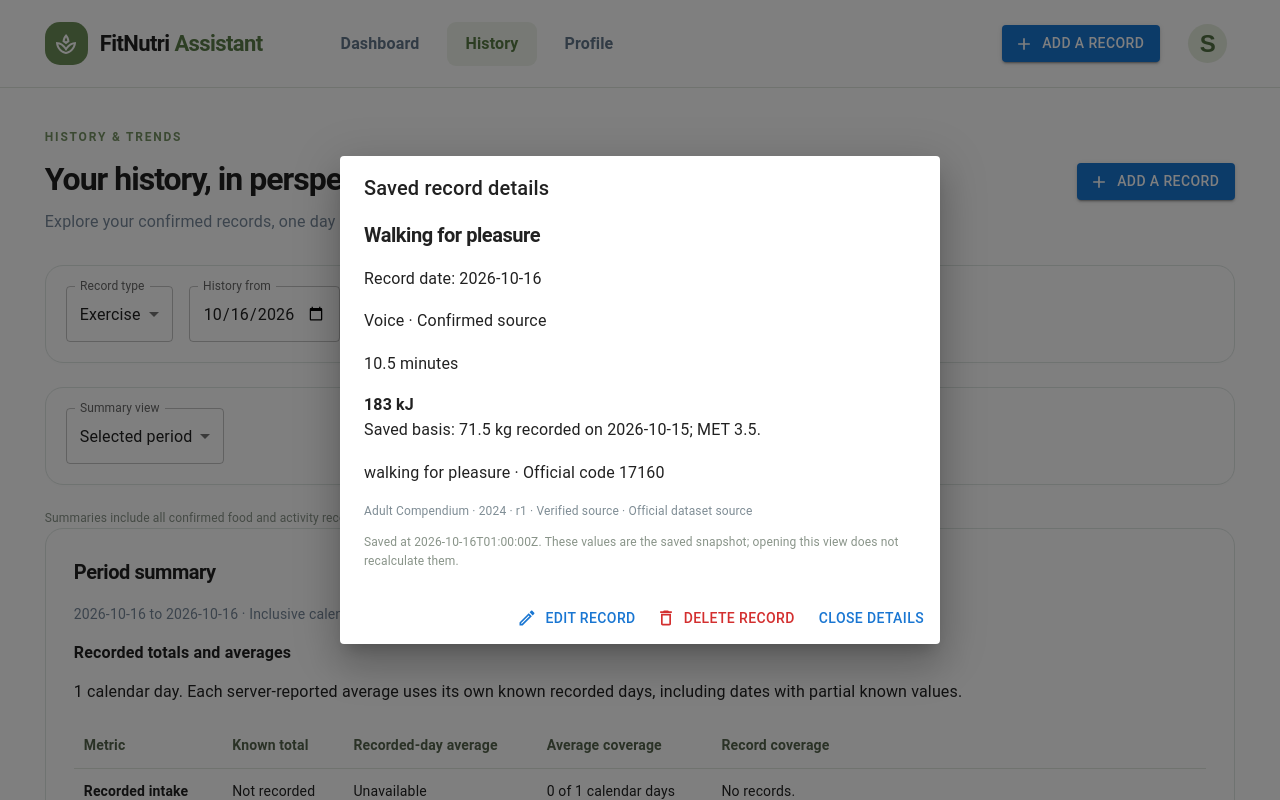
Scenario: F13 History → edit → correction Review › updates a VOICE activity through owned previews and PUT even when the selected past date has no weight
Expected: the dialog "Saved record details" is shown, x1=340 y1=156 x2=940 y2=644
Click the button "Edit record". click: coordinates (579, 618)
box: x1=514 y1=600 x2=644 y2=636
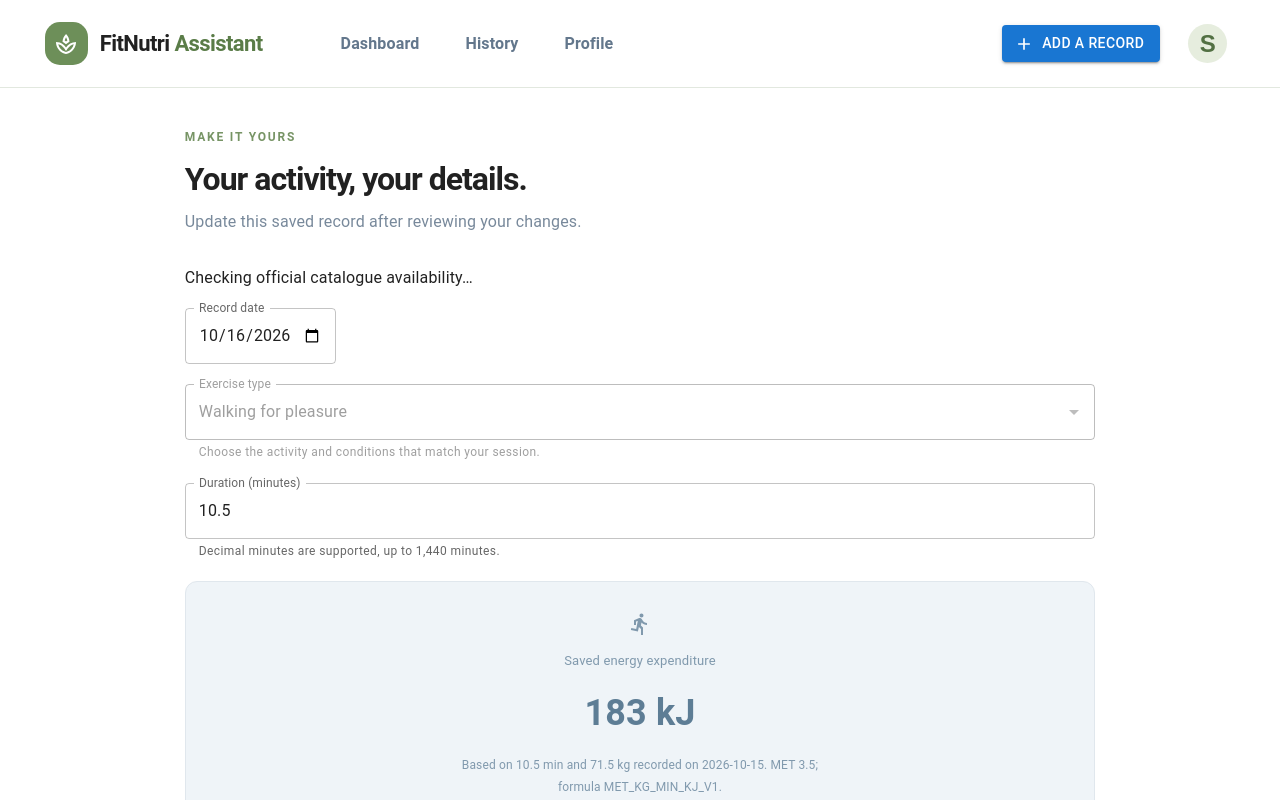
Now the heading "Your activity, your details." is shown, box x1=185 y1=160 x2=582 y2=199
Type "2026-10-15" into the date field labelled "Record date". click: coordinates (260, 336)
box: x1=185 y1=308 x2=336 y2=364
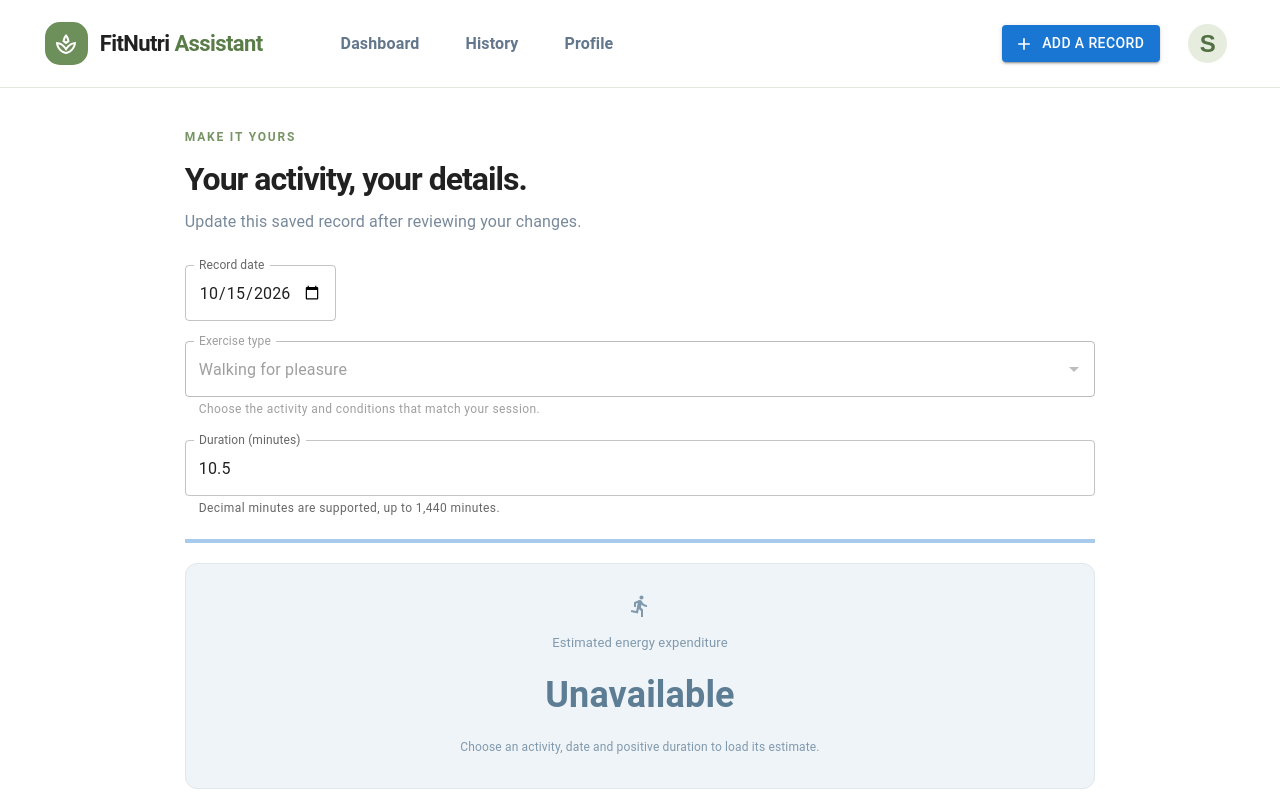
Replace the text in the field labelled "Duration (minutes)" with "12.5". click: coordinates (640, 468)
box: x1=185 y1=440 x2=1095 y2=496
(page scrolled)
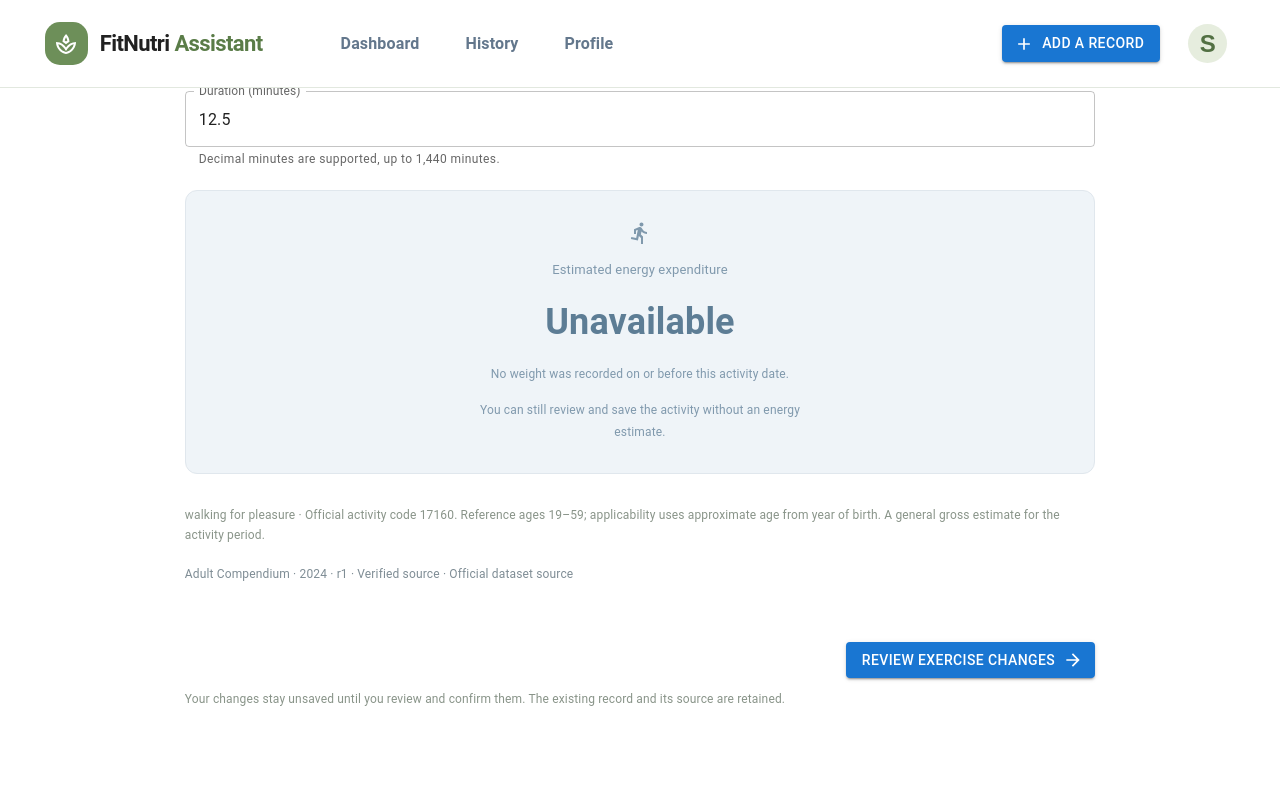
Now the button "Review exercise changes" is enabled
Click the button "Review exercise changes". click: coordinates (970, 660)
box: x1=846 y1=642 x2=1095 y2=678
(page scrolled)
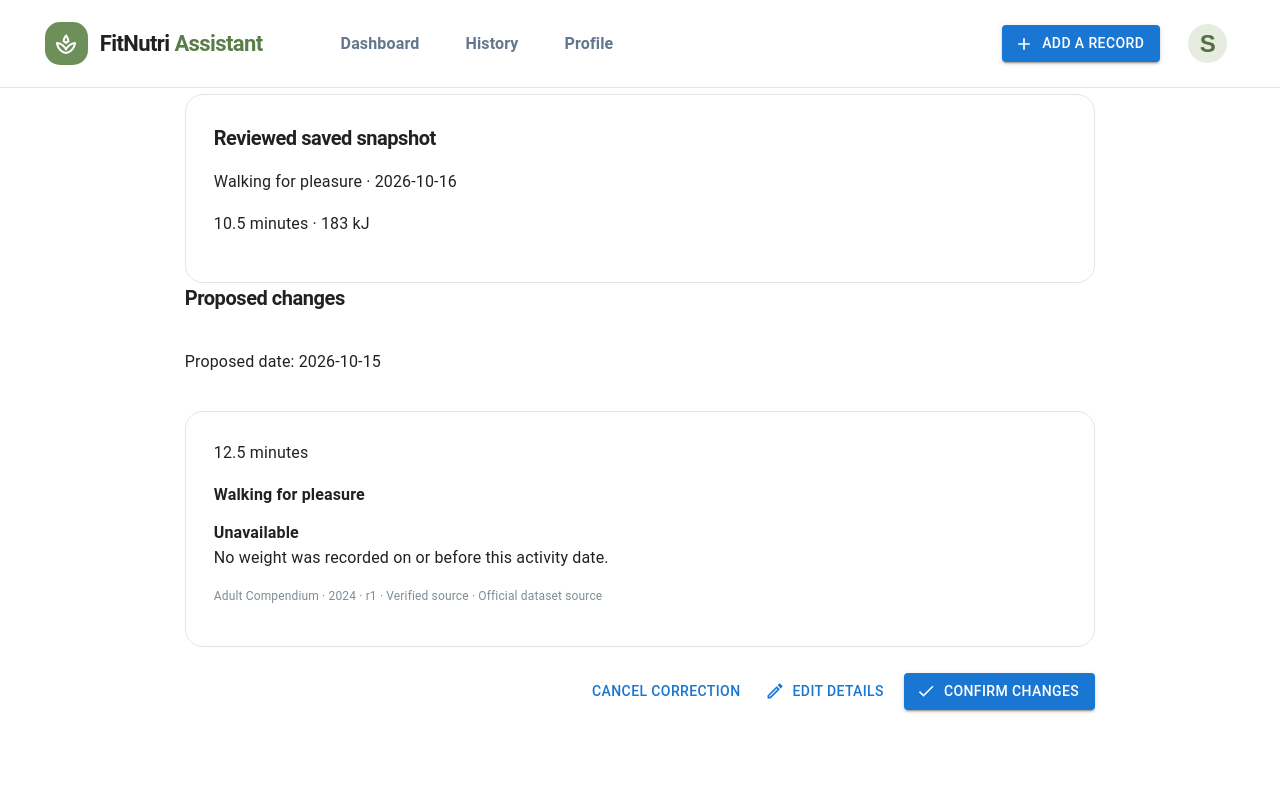
Now the text "No weight was recorded on or before this activity date." is shown, box x1=214 y1=548 x2=609 y2=567
Now the button "Confirm changes" is enabled
Click the button "Confirm changes". click: coordinates (1000, 691)
box: x1=904 y1=673 x2=1095 y2=710
(page scrolled)
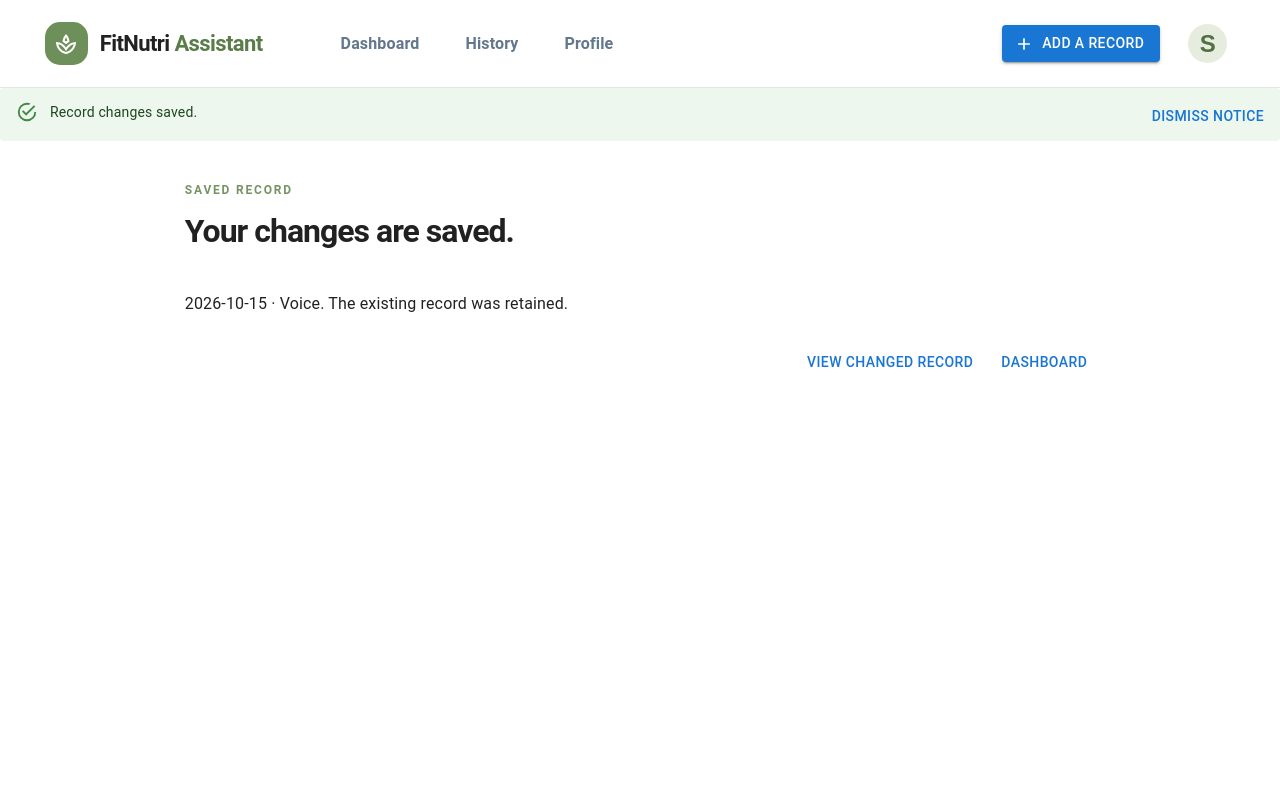
Now the heading "Your changes are saved." is shown, box x1=185 y1=212 x2=514 y2=251
